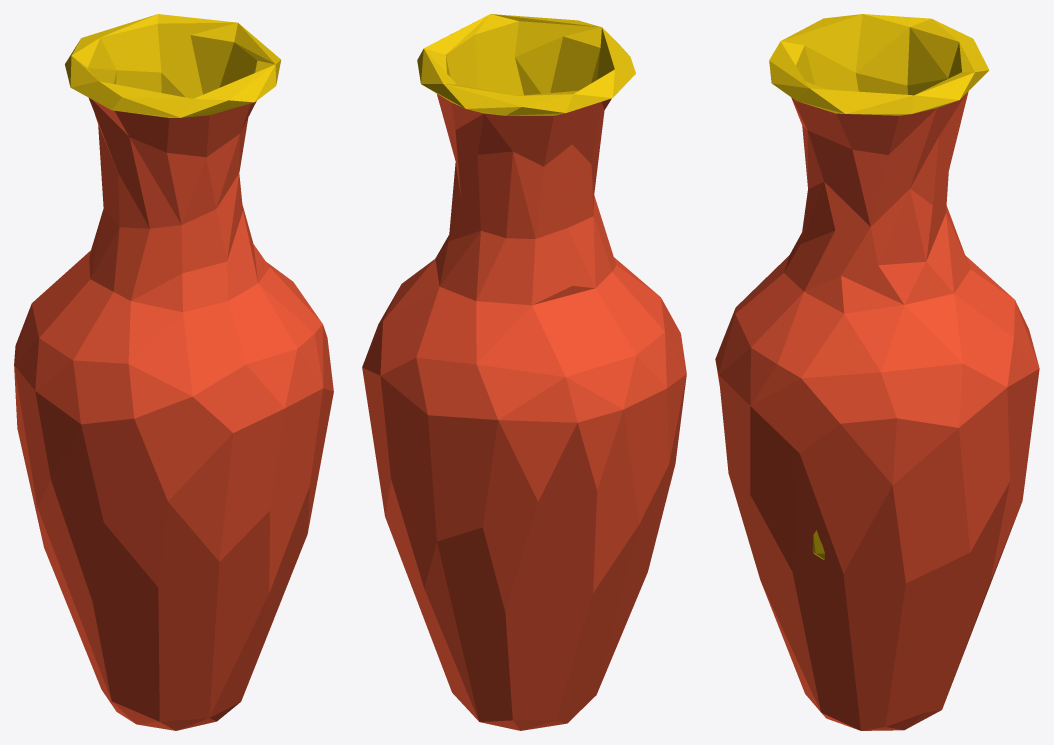
The model's file is Vase03.fbx.
3 renders of one model, left to right at view 1: azimuth 30°, elevation 25°; view 2: azimuth 150°, elevation 25°; view 3: azimuth 270°, elevation 25°, orthographic.
Visible parts, largest first — view 1: Vase03LowPoly; view 2: Vase03LowPoly; view 3: Vase03LowPoly.
Part boxes in pixels (x1,y1,x2,y2): Vase03LowPoly: (14,14,333,730); Vase03LowPoly: (362,14,686,730); Vase03LowPoly: (715,14,1039,730).
Size of the model in its own units: 6.7 by 15.14 by 6.77.
